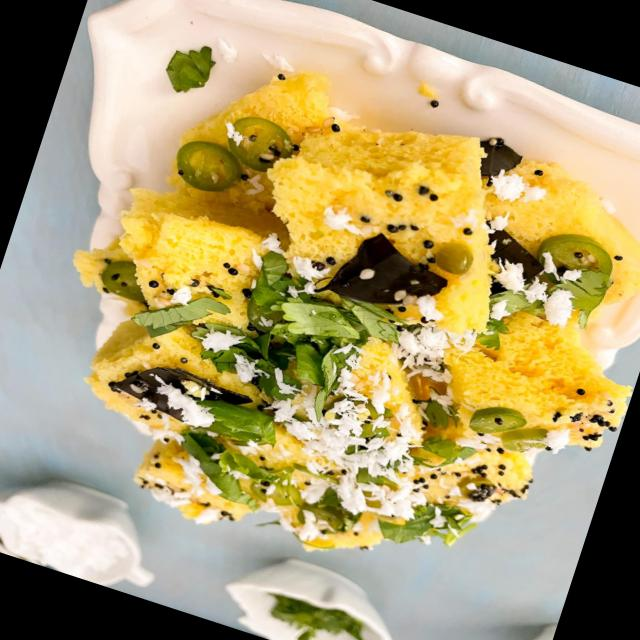dhokla: (36, 41, 640, 627)
